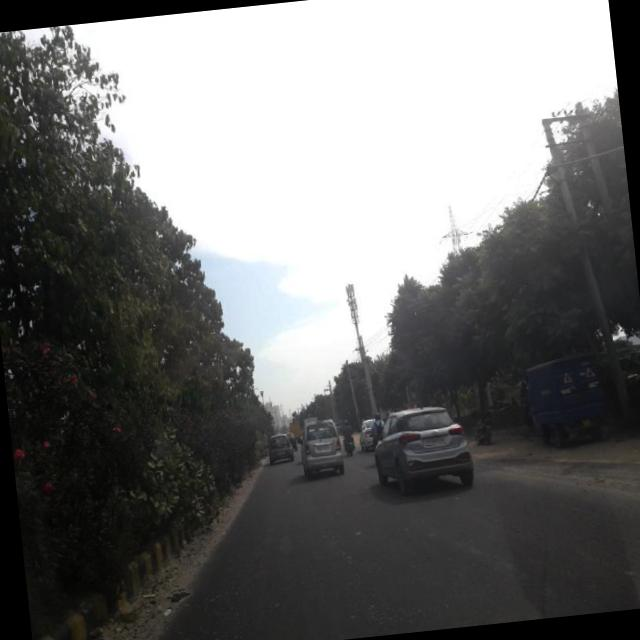crack: (163, 461, 640, 640)
